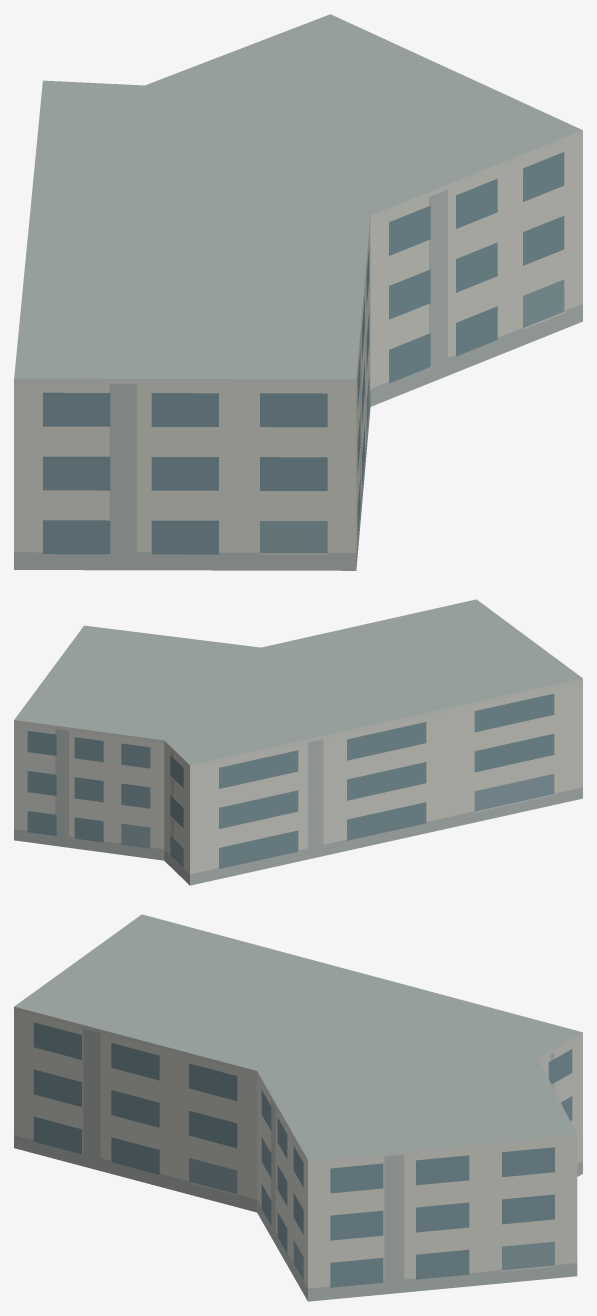
File: survey-upis-32748385.glb
3 renders of one model, top to bottom at view 1: azimuth 30°, elevation 25°; view 2: azimuth 150°, elevation 25°; view 3: azimuth 270°, elevation 25°, orthographic. The views are drawn at different scales.
Parts seen in each view (by area): view 1: survey-upis-32748385.tmp; view 2: survey-upis-32748385.tmp; view 3: survey-upis-32748385.tmp.
Boxes of the visible parts, left/top/right/bottom form: survey-upis-32748385.tmp: left=14, top=14, right=582, bottom=570; survey-upis-32748385.tmp: left=14, top=599, right=582, bottom=885; survey-upis-32748385.tmp: left=14, top=914, right=582, bottom=1301.
Bounding box in the file's own units: 34.1 × 9.15 × 33.34.
